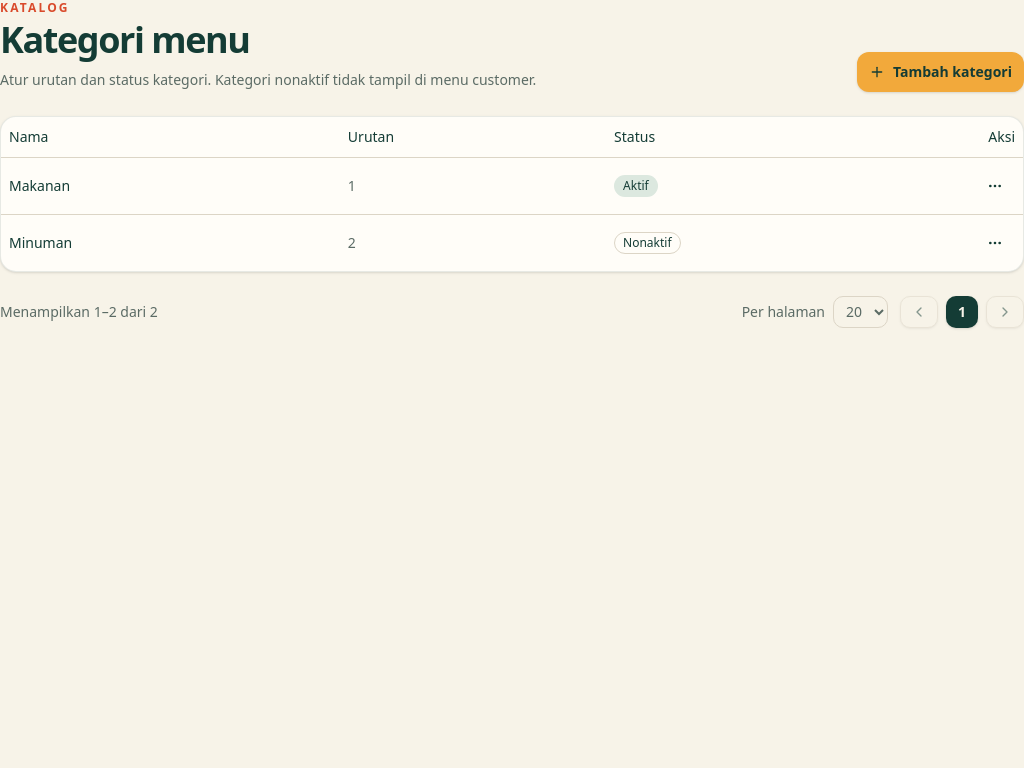
CategoriesPage › renders categories and opens the create dialog
The width and height of the screenshot is (1024, 768).
expect the text "Makanan" is shown: met, box [1,157,340,214]
expect the text "Minuman" is shown: met, box [1,214,340,270]
Click the button "Tambah kategori" at (940, 72), box [857,52,1023,92]
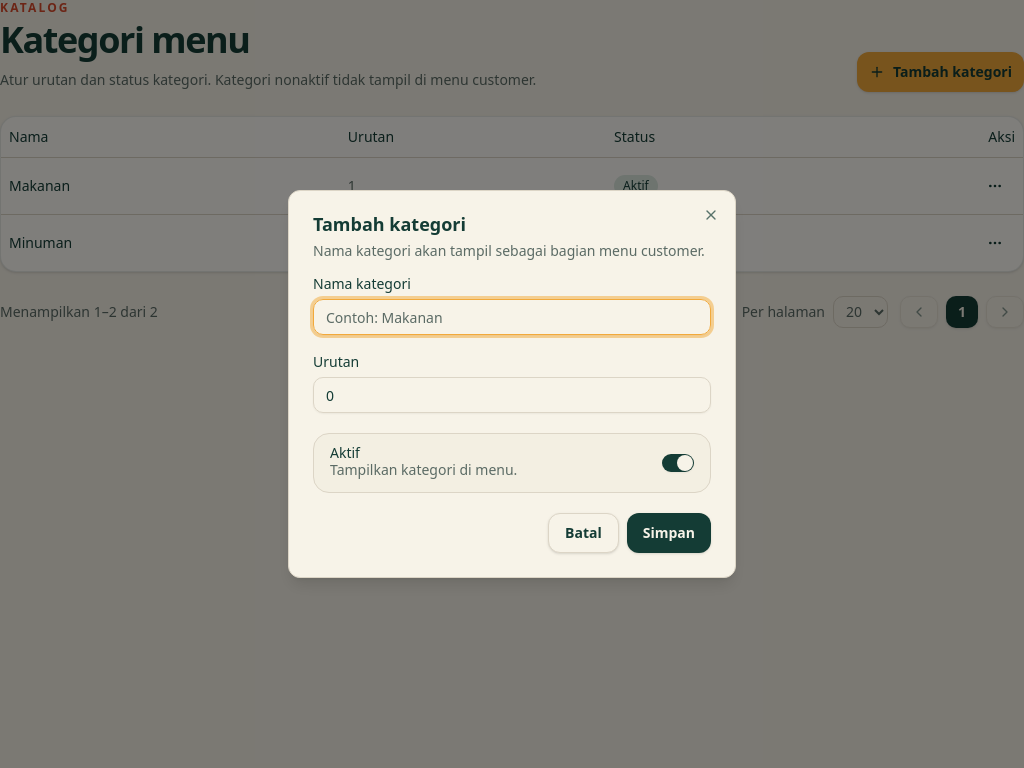
expect the heading "Tambah kategori" is shown: met, box [313,212,466,236]
expect the field labelled "Nama kategori" is empty: met, box [313,299,711,335]
